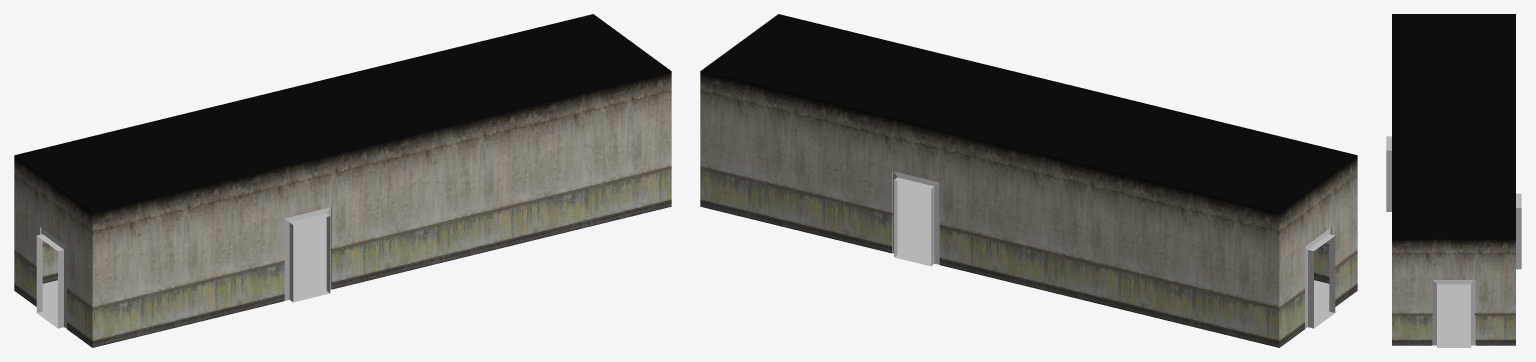
File: hallway4xB.FBX
3 renders of one model, left to right at view 1: azimuth 30°, elevation 25°; view 2: azimuth 150°, elevation 25°; view 3: azimuth 270°, elevation 25°, orthographic. The views are drawn at different scales.
Visible parts, largest first — view 1: Hall4xB; view 2: Hall4xB; view 3: Hall4xB.
Boxes of the visible parts, x1,y1,x2,y2 form: Hall4xB: (14, 14, 671, 347); Hall4xB: (700, 14, 1357, 347); Hall4xB: (1386, 14, 1521, 347).
Size of what is drawn, in the model's own units: 1890 by 413 by 472.
